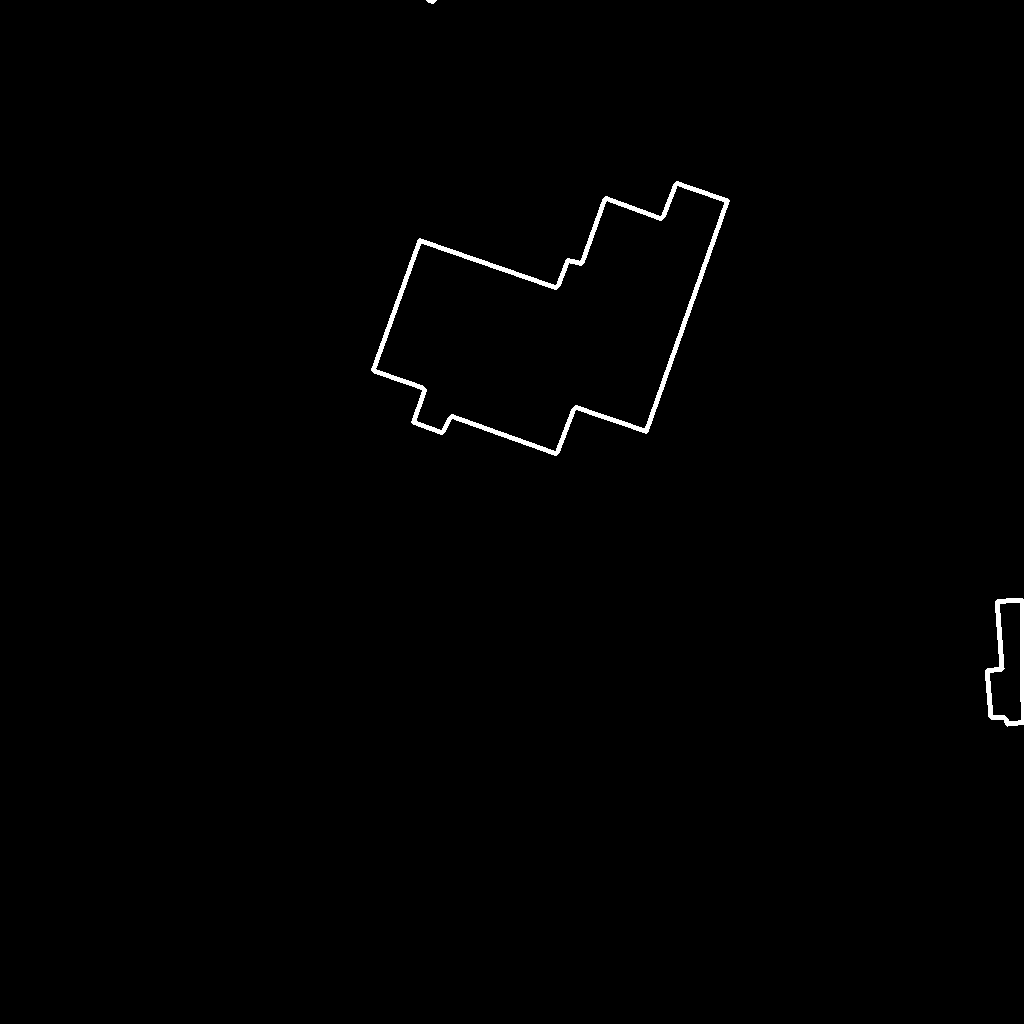building: (373, 183, 729, 455), (987, 600, 1024, 725), (427, 0, 436, 3)
